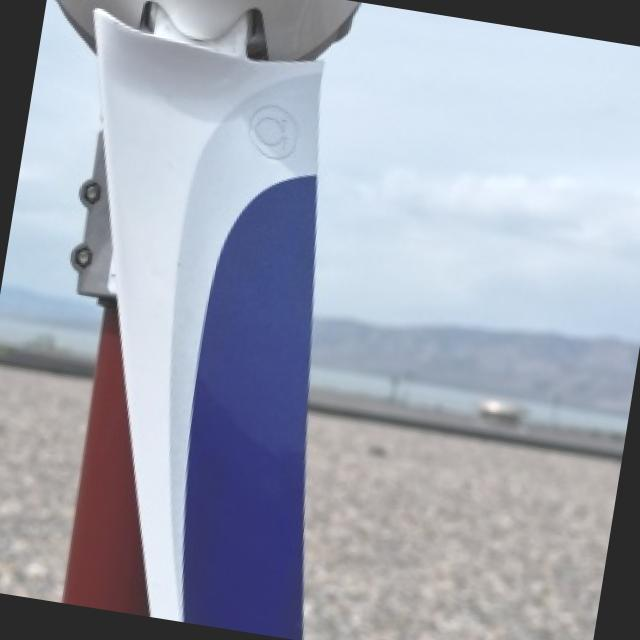healthy: (56, 0, 355, 639)
